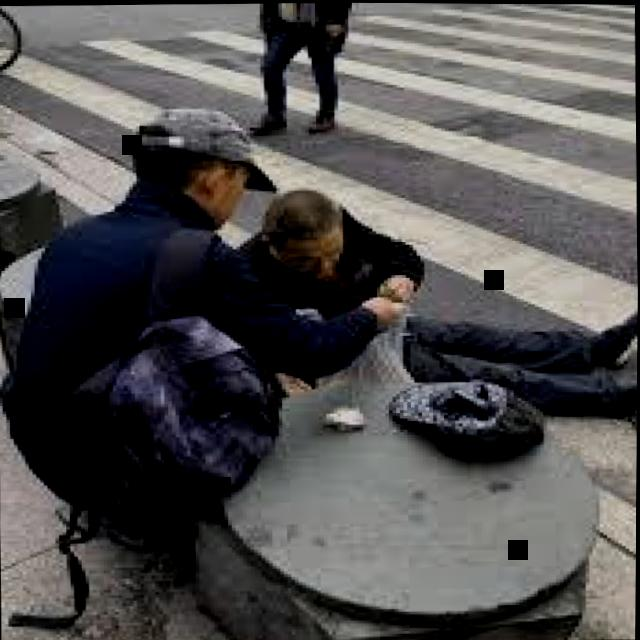Fall-Detected: (234, 159, 634, 424)
